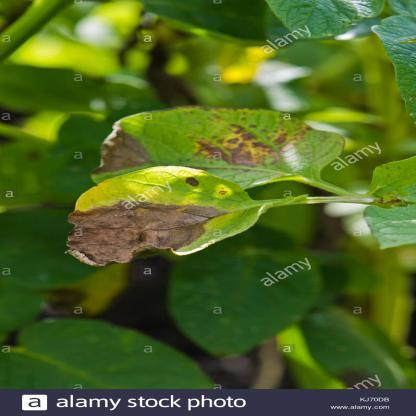Potato leaf late blight: (87, 102, 342, 193), (63, 165, 279, 261)
